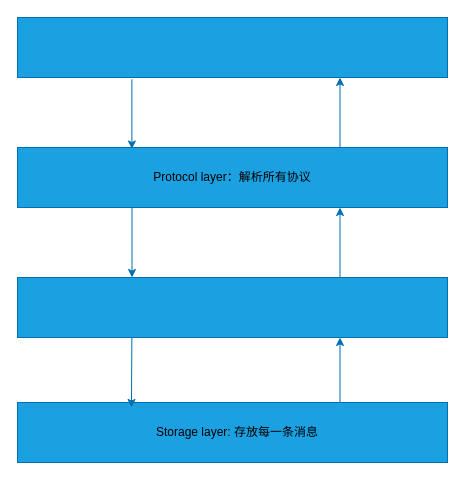
This 465x480 diagram has some shape labels left out. The box of each missing label's shape, as (x1, y1, x2, y2) in pixels:
Connectivity layer：负责管理所有连接: (16, 16, 448, 78)
Middleware：扩展各种功能: (16, 276, 448, 338)
